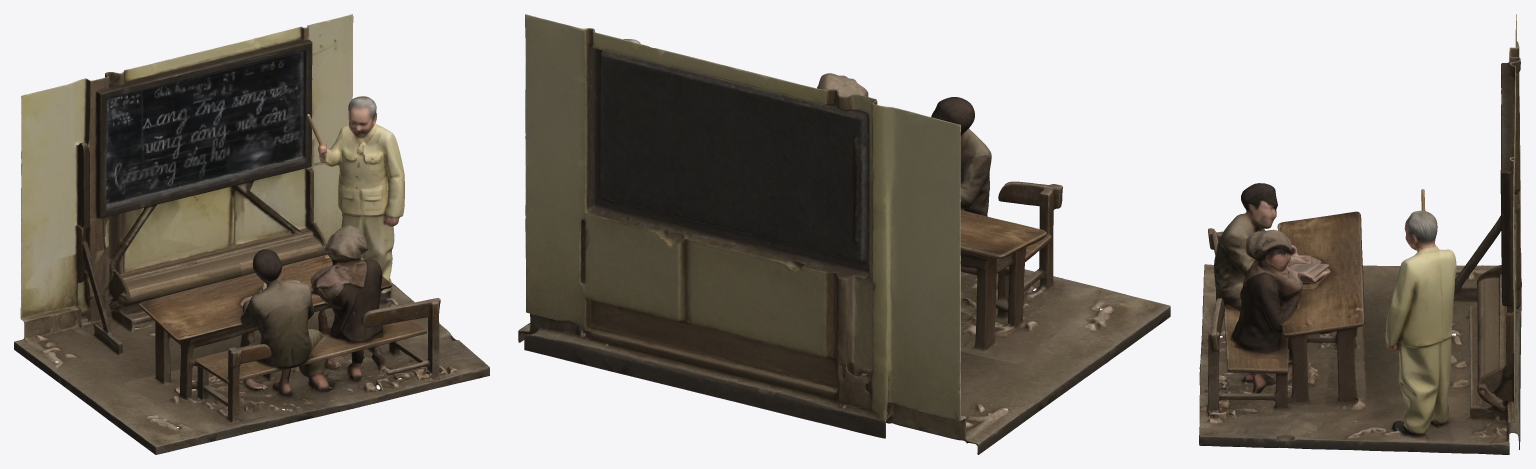
Rendered from xoa_mu_chu_1945.glb.
3 renders of one model, left to right at view 1: azimuth 30°, elevation 25°; view 2: azimuth 150°, elevation 25°; view 3: azimuth 270°, elevation 25°, orthographic. The views are drawn at different scales.
Bounding box in the file's own units: 1.64 × 1.13 × 1.23.
1 material, 1 textured.
